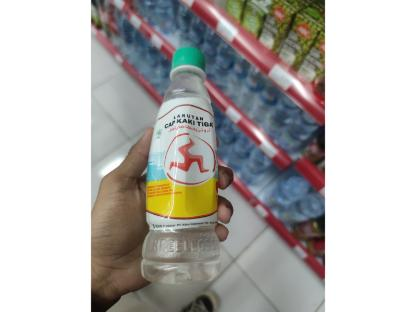Plastic Bottle: (127, 41, 240, 288)
